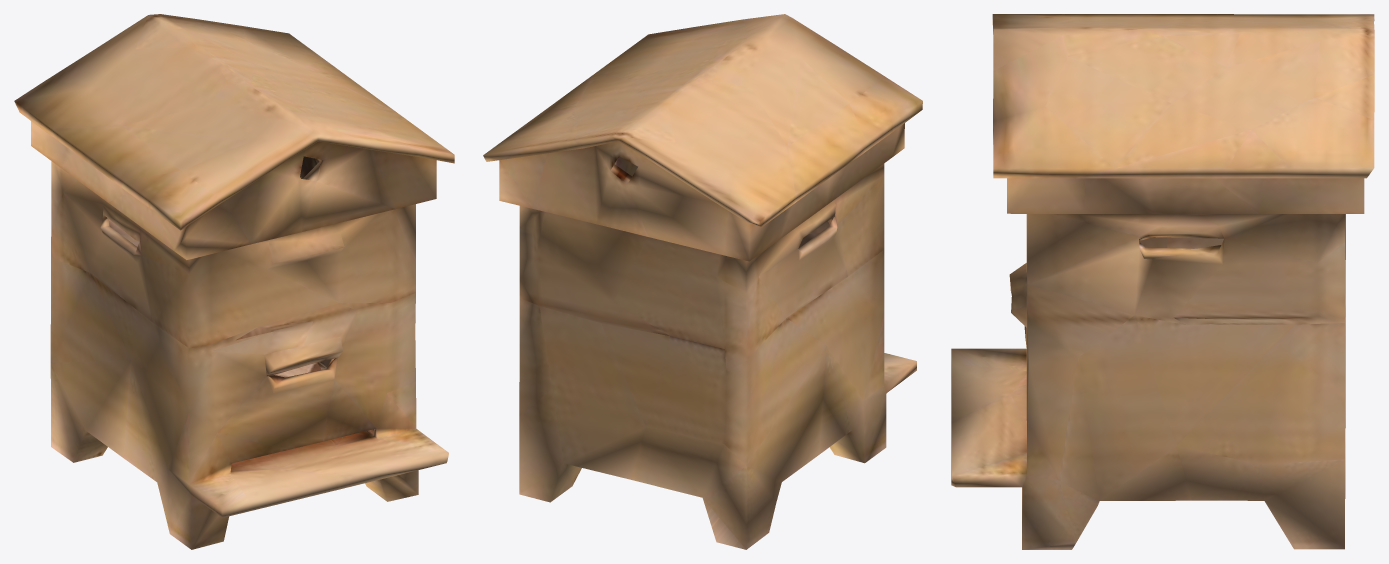
File: beehive.glb
The picture shows the model from 3 angles, left to right: view 1: azimuth 30°, elevation 25°; view 2: azimuth 150°, elevation 25°; view 3: azimuth 270°, elevation 25°; orthographic projection. The views are drawn at different scales.
Parts seen in each view (by area): view 1: model; view 2: model; view 3: model.
Part boxes in pixels (<box>): model: <box>14,14,454,549</box>; model: <box>483,14,922,549</box>; model: <box>951,14,1374,549</box>.
Size of the model in its own units: 1.45 by 2 by 1.68.
1 material, 1 textured.
